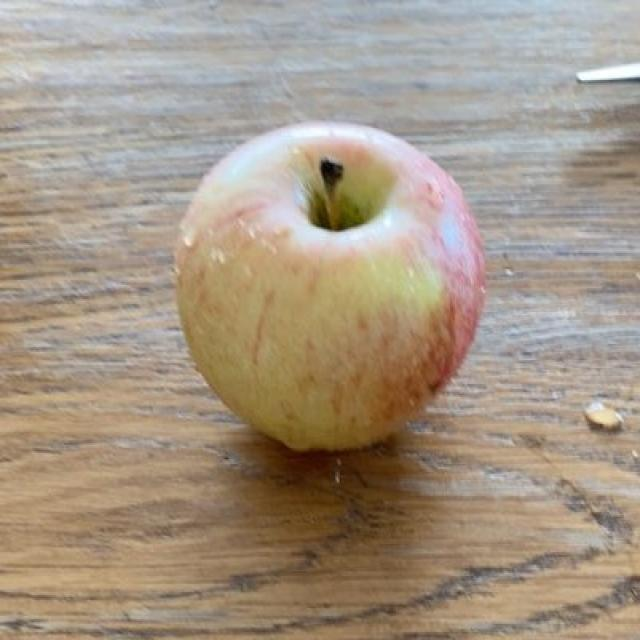apple: (173, 130, 484, 449)
